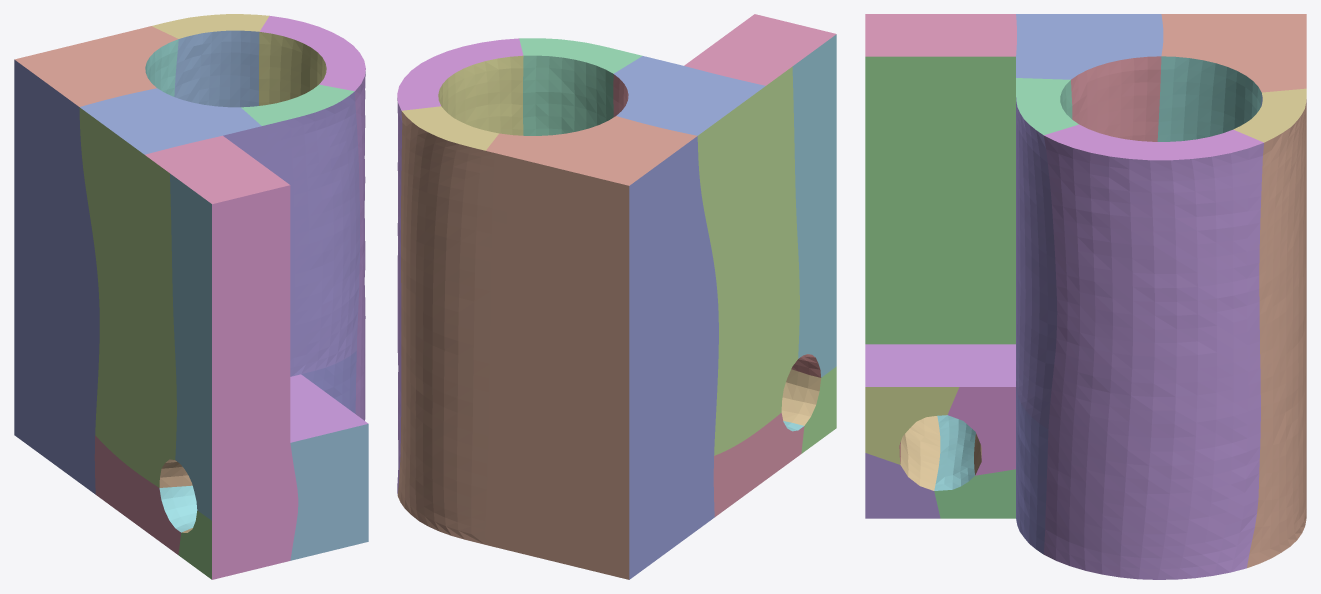
Rendered from joint_rem_p_quadrangulation.obj.
3 views of the same model, side by side, from view 1: azimuth 30°, elevation 25°; view 2: azimuth 150°, elevation 25°; view 3: azimuth 270°, elevation 25° (orthographic). The views are drawn at different scales.
Size of the model in its own units: 0.7494 by 1 by 0.9542.
